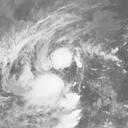cyclone: (22, 73, 72, 112), (49, 45, 73, 70)
